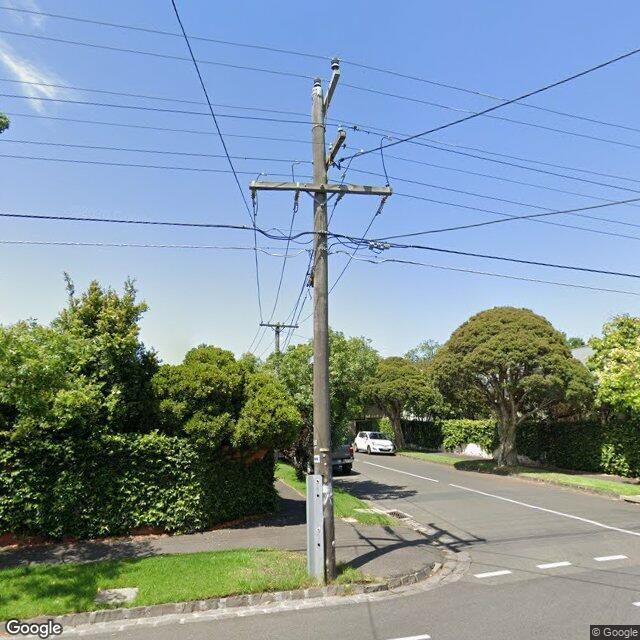HV-transmission: (314, 58, 340, 88)
concrete-pole: (312, 88, 336, 582), (274, 324, 280, 352)
crossarm: (249, 181, 393, 195), (326, 132, 346, 170), (324, 70, 339, 116), (260, 324, 298, 328)
